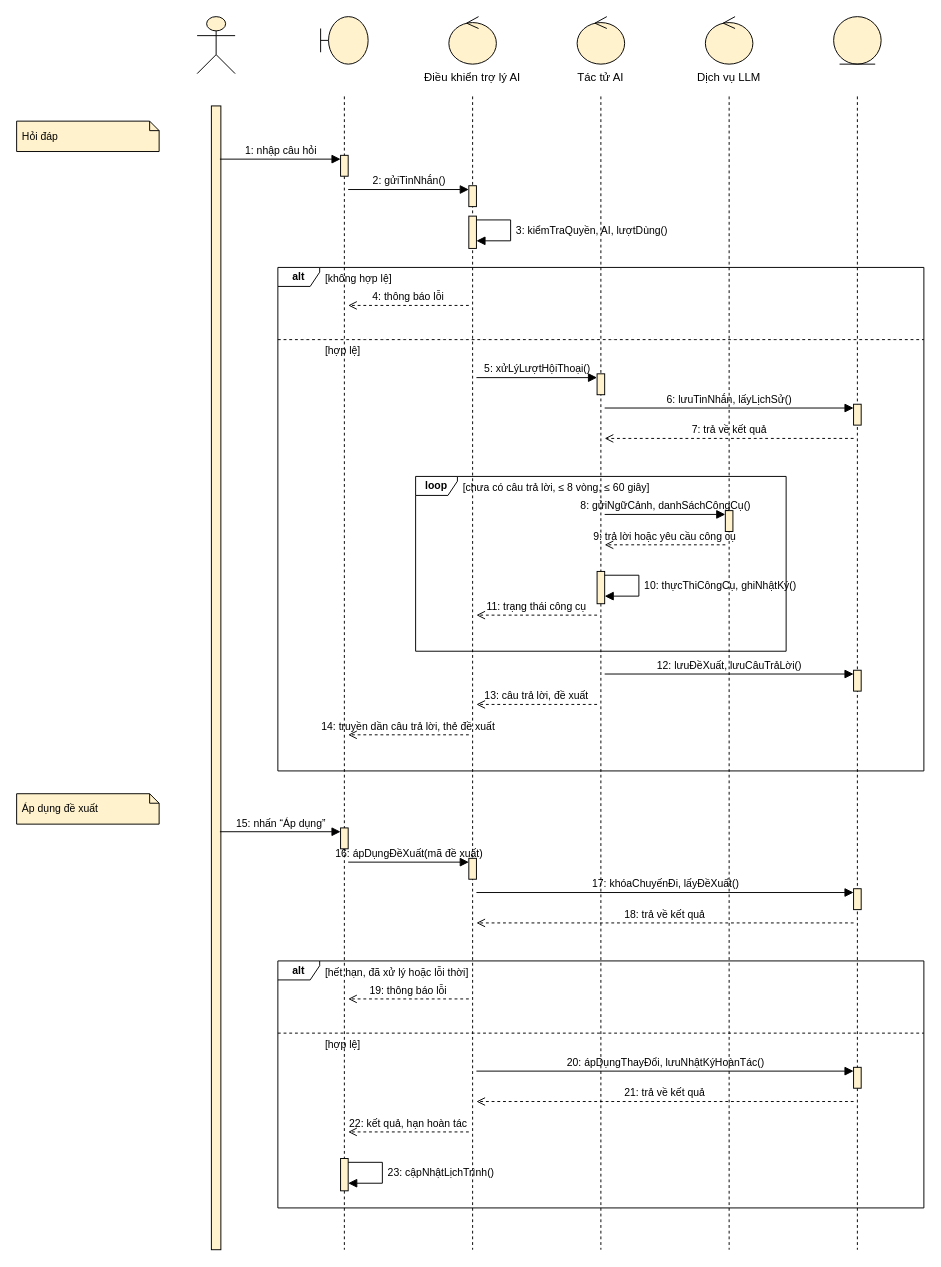
Some shapes in this 941 by 1267 pixel diagram are drawn without their labels. Each missing label, with the centre of its shape:
"Hội thoại và đề xuất" belongs at (x=857, y=40).
"Khung trợ lý AI" belongs at (x=344, y=40).
"Người dùng" belongs at (x=215, y=45).
